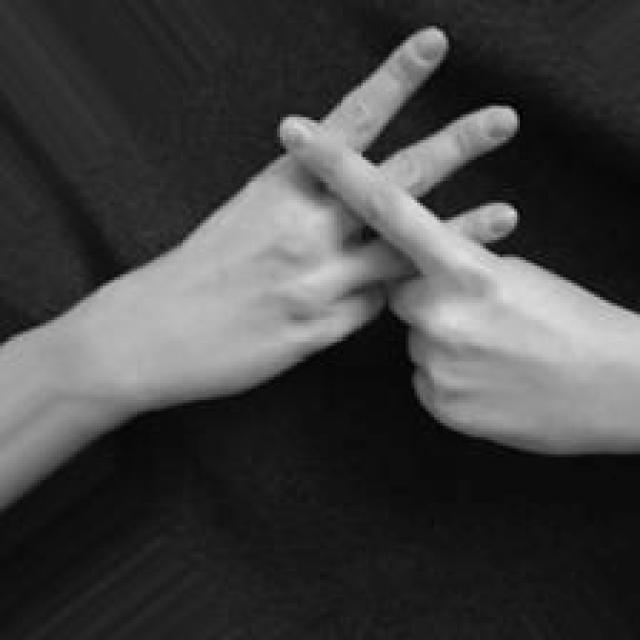E: (172, 18, 640, 455)
